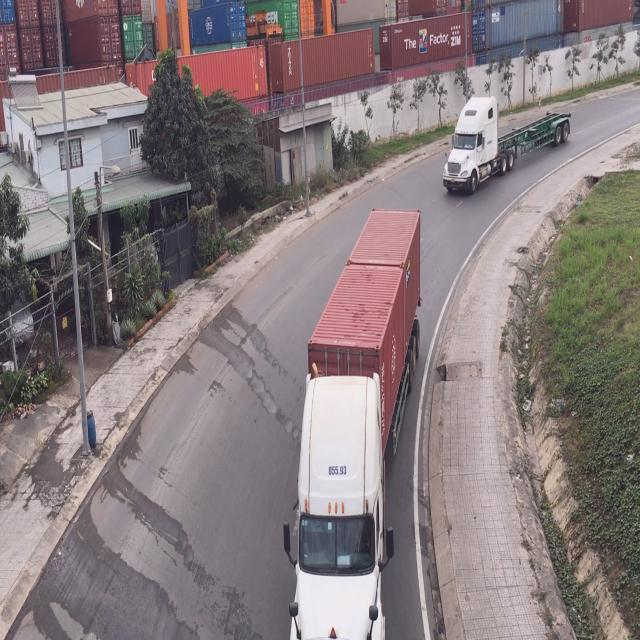truck: (293, 208, 425, 640), (442, 97, 570, 198)
